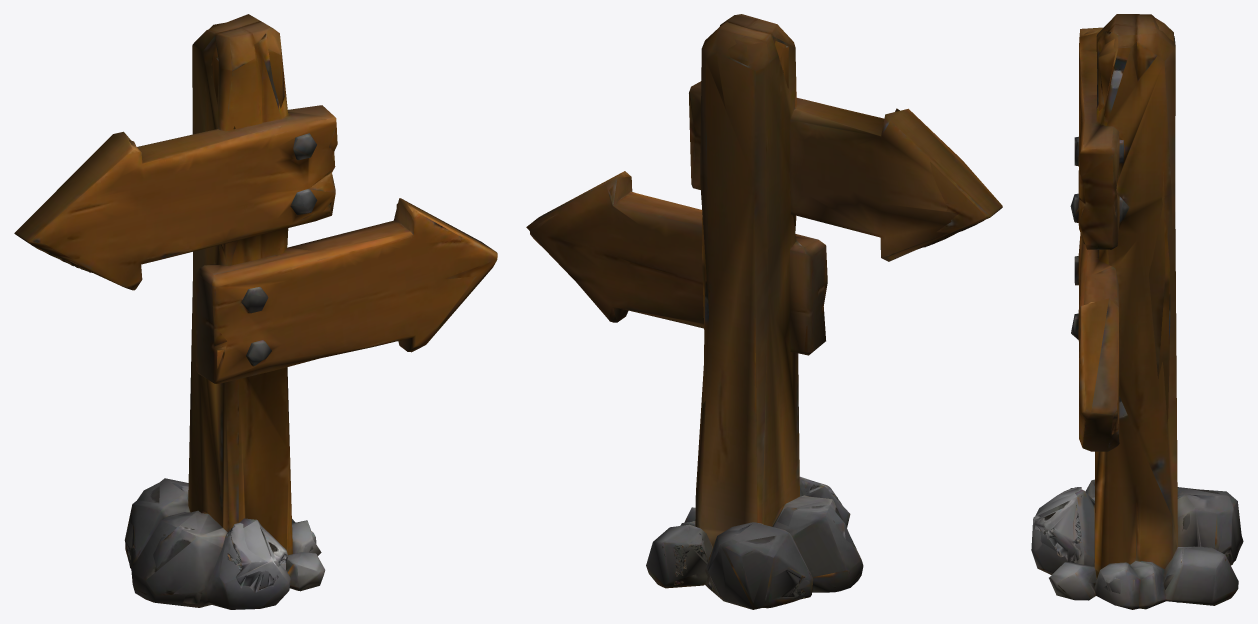
File: signpost.glb
The picture shows the model from 3 angles, left to right: view 1: azimuth 30°, elevation 25°; view 2: azimuth 150°, elevation 25°; view 3: azimuth 270°, elevation 25°; orthographic projection. The views are drawn at different scales.
Visible parts, largest first — view 1: Mesh_0; view 2: Mesh_0; view 3: Mesh_0.
Boxes of the visible parts, <box> form: Mesh_0: <box>14,14,497,609</box>; Mesh_0: <box>526,14,1002,609</box>; Mesh_0: <box>1031,14,1243,609</box>.
Bounding box in the file's own units: 1.23 × 1.35 × 0.4691.
Materials: 1 (1 with a texture image).
